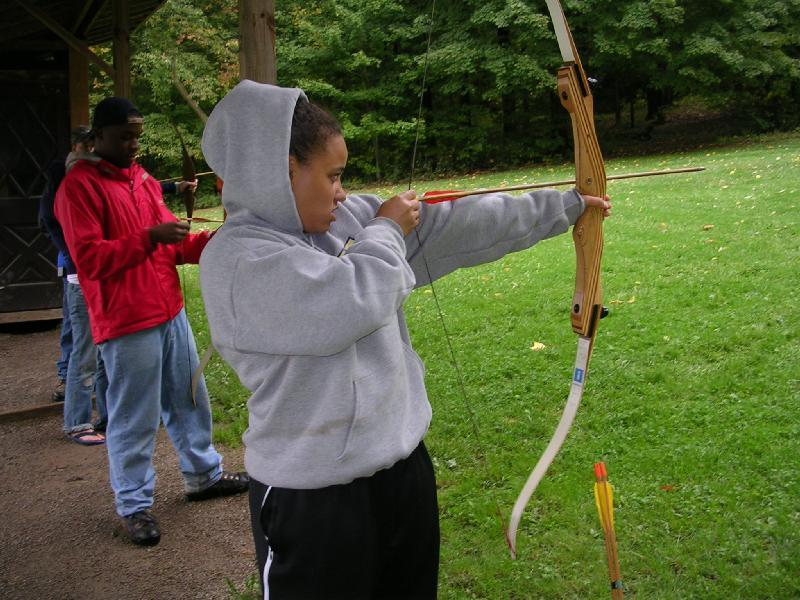person: (197, 80, 615, 600)
